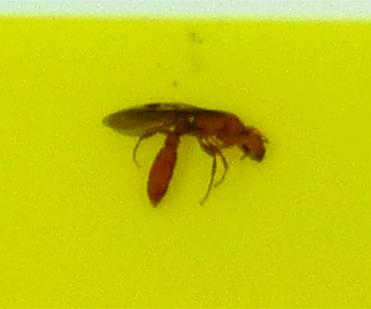Hymenoptera: (100, 100, 271, 209)
